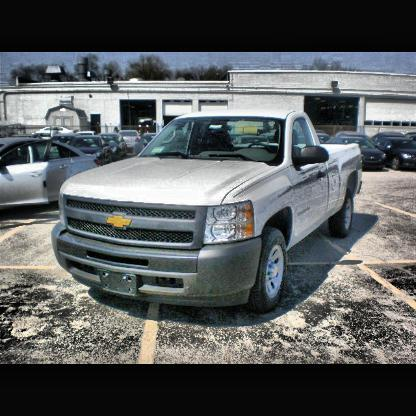Chevrolet Silverado 1500 Regular Cab 2012: (53, 111, 363, 307)
